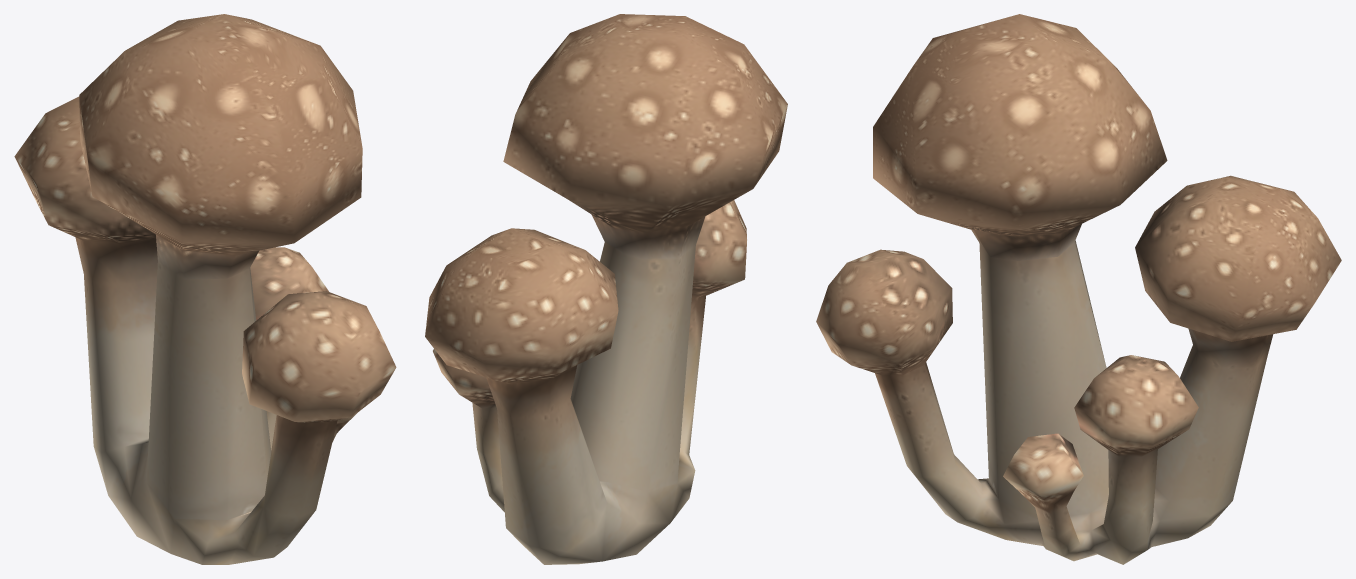
Rendered from SM_Mushroom_D.fbx.
3 renders of one model, left to right at view 1: azimuth 30°, elevation 25°; view 2: azimuth 150°, elevation 25°; view 3: azimuth 270°, elevation 25°, orthographic. The views are drawn at different scales.
Visible parts, largest first — view 1: SM_Mushroom_D_LOD0; view 2: SM_Mushroom_D_LOD0; view 3: SM_Mushroom_D_LOD0.
Part boxes in pixels (x1,y1,x2,y2): SM_Mushroom_D_LOD0: [14, 14, 396, 564]; SM_Mushroom_D_LOD0: [425, 14, 787, 564]; SM_Mushroom_D_LOD0: [816, 14, 1341, 564].
Size of the model in its own units: 12.97 by 20.86 by 22.29.
1 material, 1 textured.
